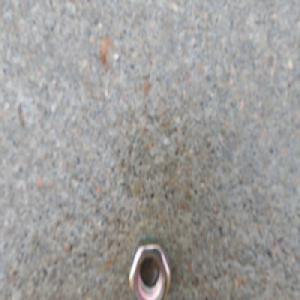Nut: (127, 235, 172, 300)
